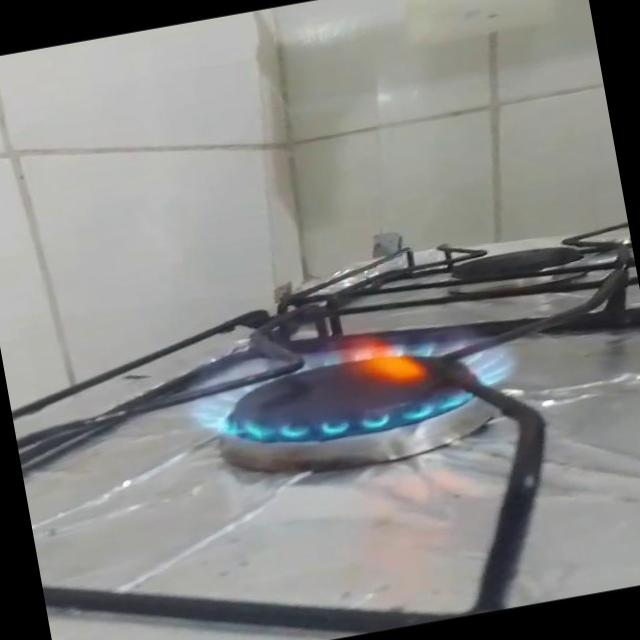Fire: (174, 299, 532, 468)
